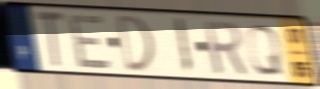D: (115, 12, 157, 75)
E: (68, 14, 114, 71)
I: (172, 16, 195, 77)
Q: (245, 23, 286, 78)
R: (201, 19, 250, 77)
T: (33, 8, 67, 71)
